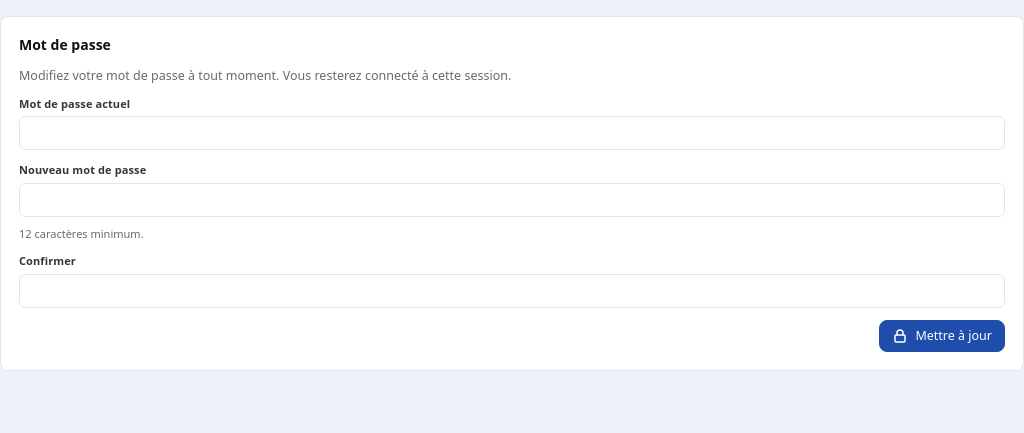
Test: <PasswordChangeSection /> › 1. rejects passwords shorter than 12 chars
Type "Old-Pwd-2026!" into the password field labelled "Mot de passe actuel".
click(512, 134); type("Old-Pwd-2026!")  # box [19, 116, 1005, 150]
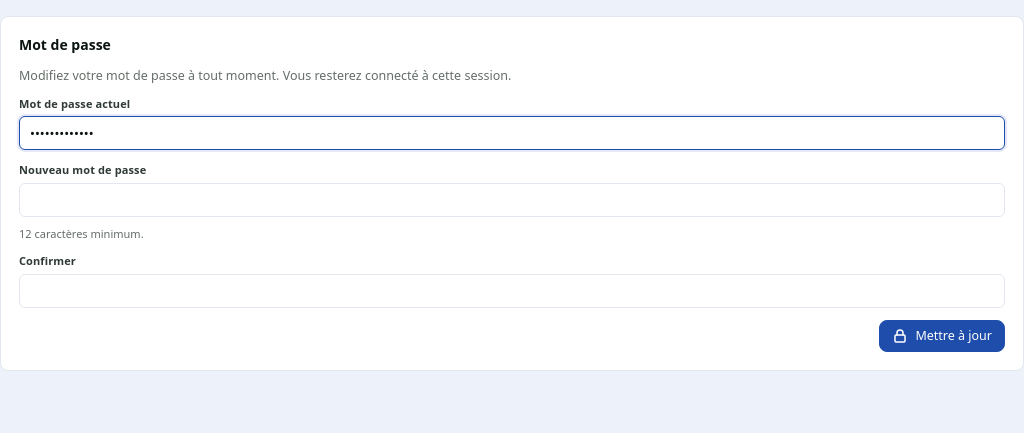
Type "short" into the password field labelled "Nouveau mot de passe".
click(512, 200); type("short")  # box [19, 183, 1005, 217]
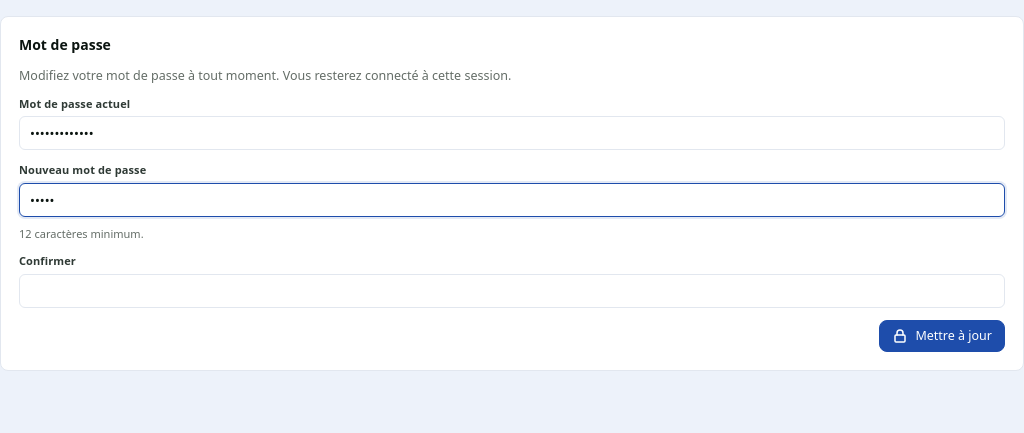
Type "short" into the password field labelled "Confirmer".
click(512, 291); type("short")  # box [19, 274, 1005, 308]
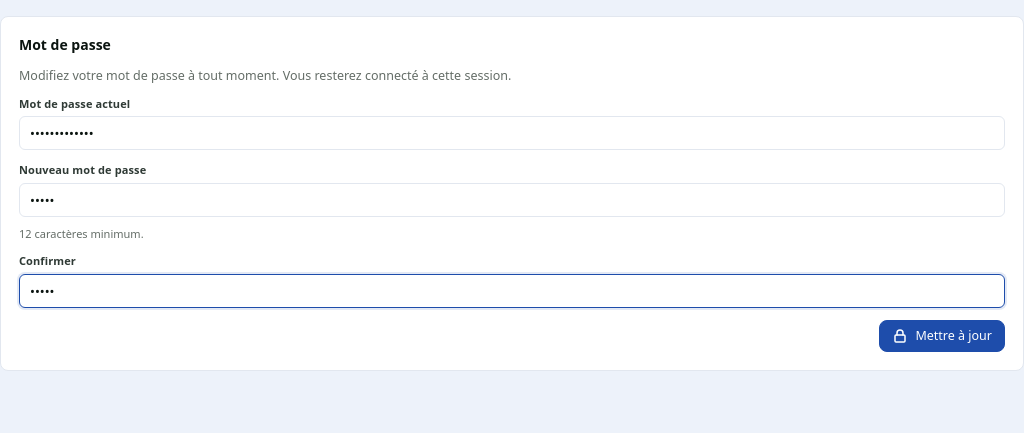
Click the button "Mettre à jour".
click(942, 336)  # box [879, 320, 1005, 352]
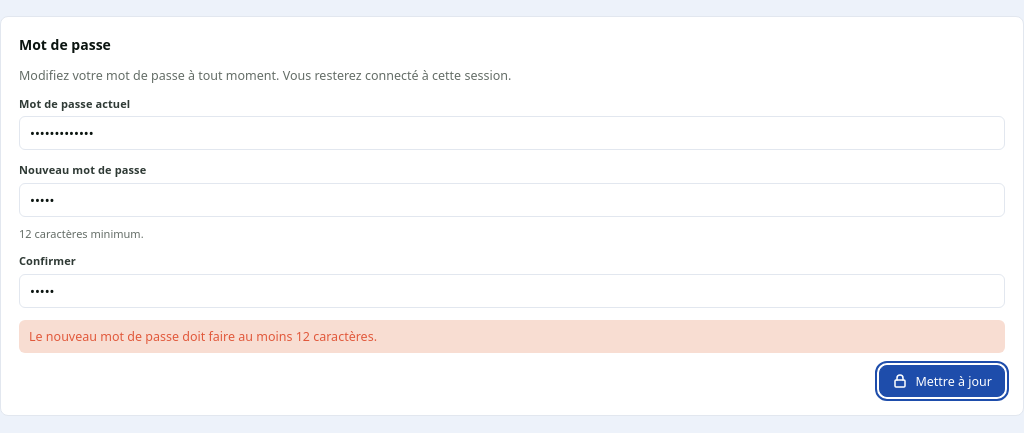
Expected: the text "Le nouveau mot de passe doit faire au moins 12 caractères." is shown, [19, 320, 1005, 353]
